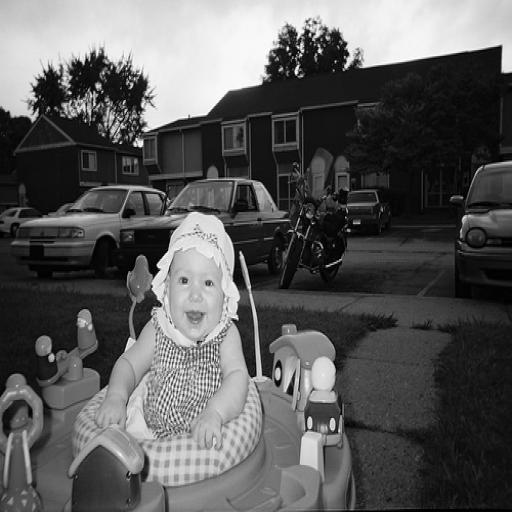car: (116, 161, 294, 286), (12, 180, 176, 285), (446, 153, 511, 295), (338, 179, 393, 233), (0, 201, 43, 232)
motorbike: (274, 162, 352, 297)
person: (96, 208, 250, 452)
